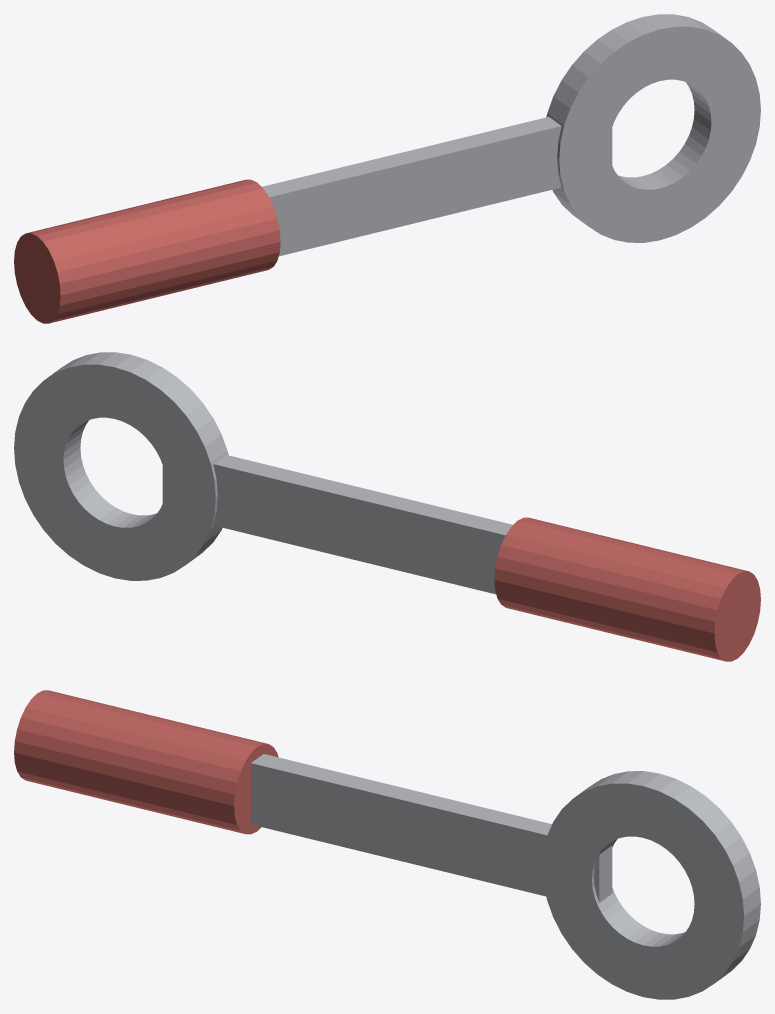
The model's file is wrench3d.glb.
The picture shows the model from 3 angles, top to bottom: view 1: azimuth 30°, elevation 25°; view 2: azimuth 150°, elevation 25°; view 3: azimuth 330°, elevation 25°; orthographic projection.
Parts seen in each view (by area): view 1: geometry_1, geometry_2, geometry_0; view 2: geometry_1, geometry_2, geometry_0; view 3: geometry_1, geometry_0, geometry_2.
Boxes of the visible parts, x1,y1,x2,y2 form: geometry_1: [546, 14, 760, 242]; geometry_2: [14, 179, 280, 323]; geometry_0: [262, 117, 612, 256]; geometry_1: [14, 352, 228, 580]; geometry_2: [494, 517, 760, 661]; geometry_0: [162, 455, 512, 594]; geometry_1: [542, 771, 760, 999]; geometry_0: [251, 754, 612, 902]; geometry_2: [14, 690, 278, 834].
Size of the model in its own units: 3.9 by 1.1 by 0.44.
